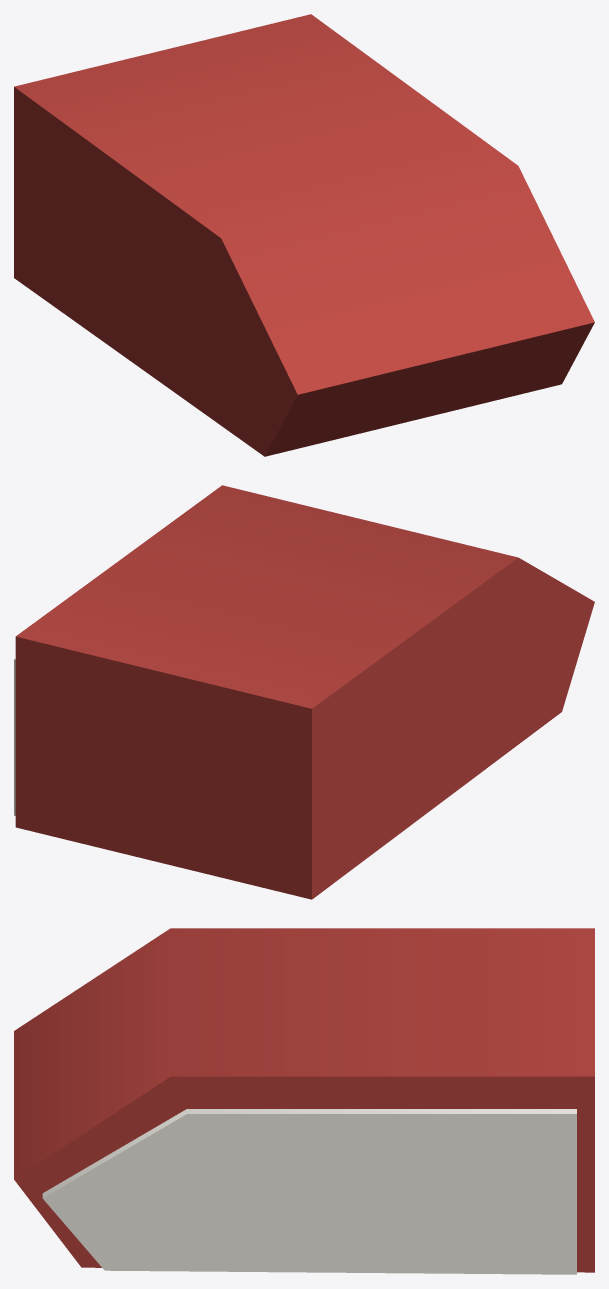
Rendered from triple_lod2.glb.
The picture shows the model from 3 angles, top to bottom: view 1: azimuth 30°, elevation 25°; view 2: azimuth 150°, elevation 25°; view 3: azimuth 270°, elevation 25°; orthographic projection. The views are drawn at different scales.
Parts seen in each view (by area): view 1: triple_lod2; view 2: triple_lod2; view 3: triple_lod2.
Part boxes in pixels (x1,y1,x2,y2): triple_lod2: (14,14,594,456); triple_lod2: (14,485,594,899); triple_lod2: (14,928,594,1274).
Size of the model in its own units: 1.35 by 0.8 by 2.15.
